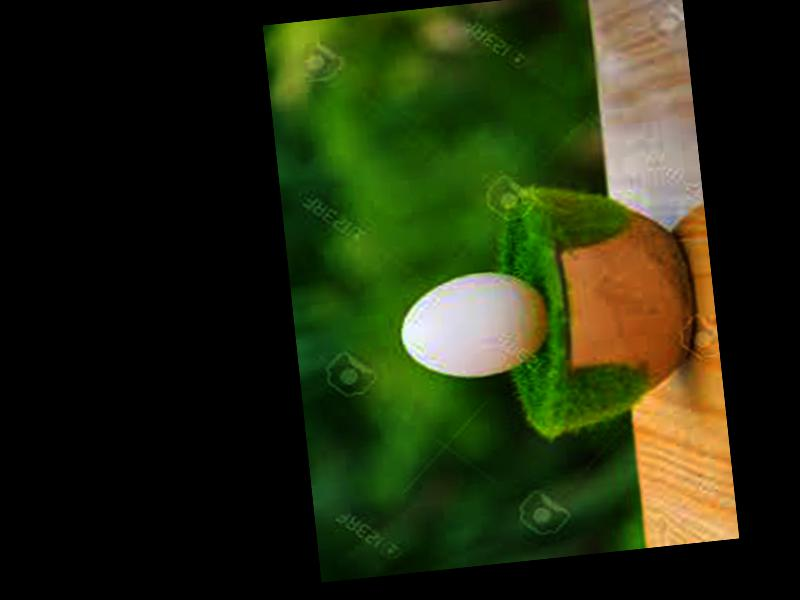Eggs: (398, 263, 553, 382)
